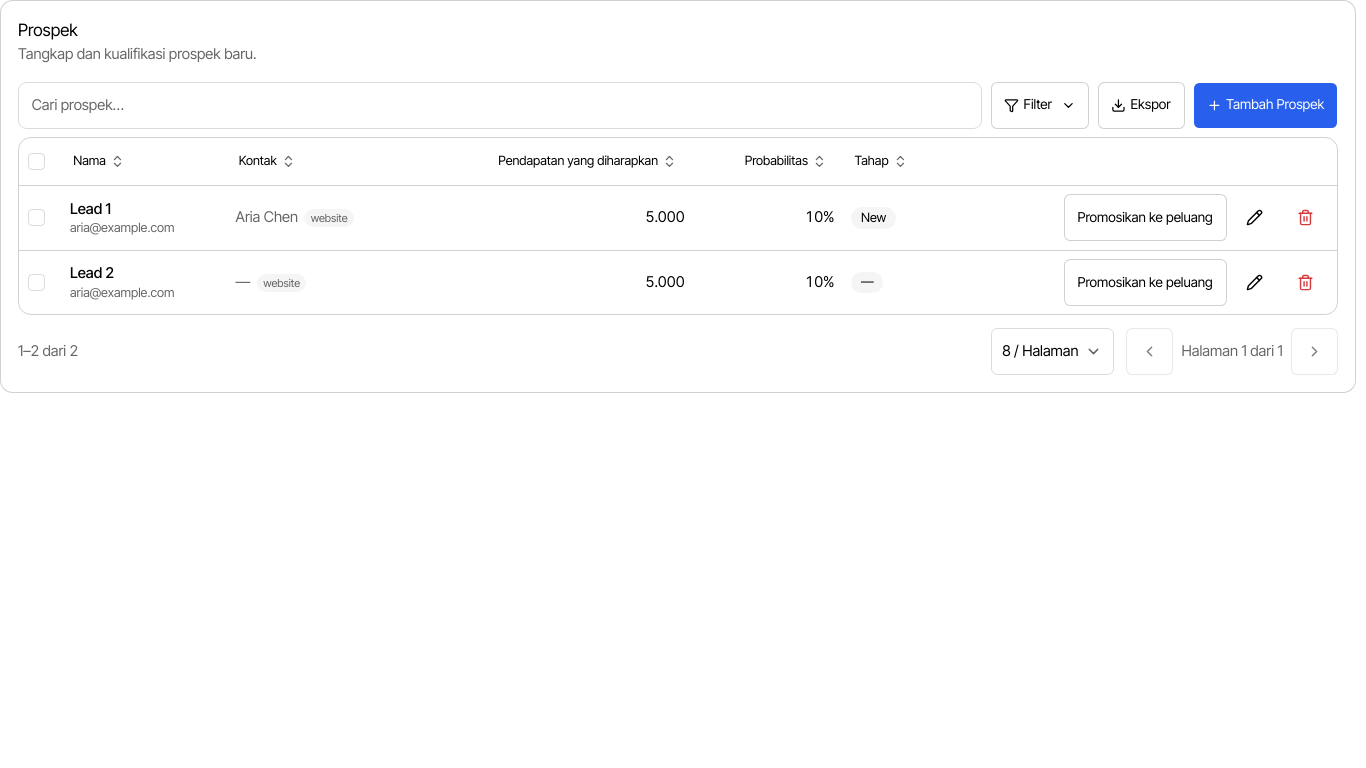
Test: LeadsSection extra2 › opens the edit dialog from the row actions
The width and height of the screenshot is (1366, 768).
Check: the text "Lead 1" is shown, box [70,200,111,218]
Click the button named "Ubah prospek" in the row of "Lead 1".
click(1254, 218)  # box [1231,194,1278,241]
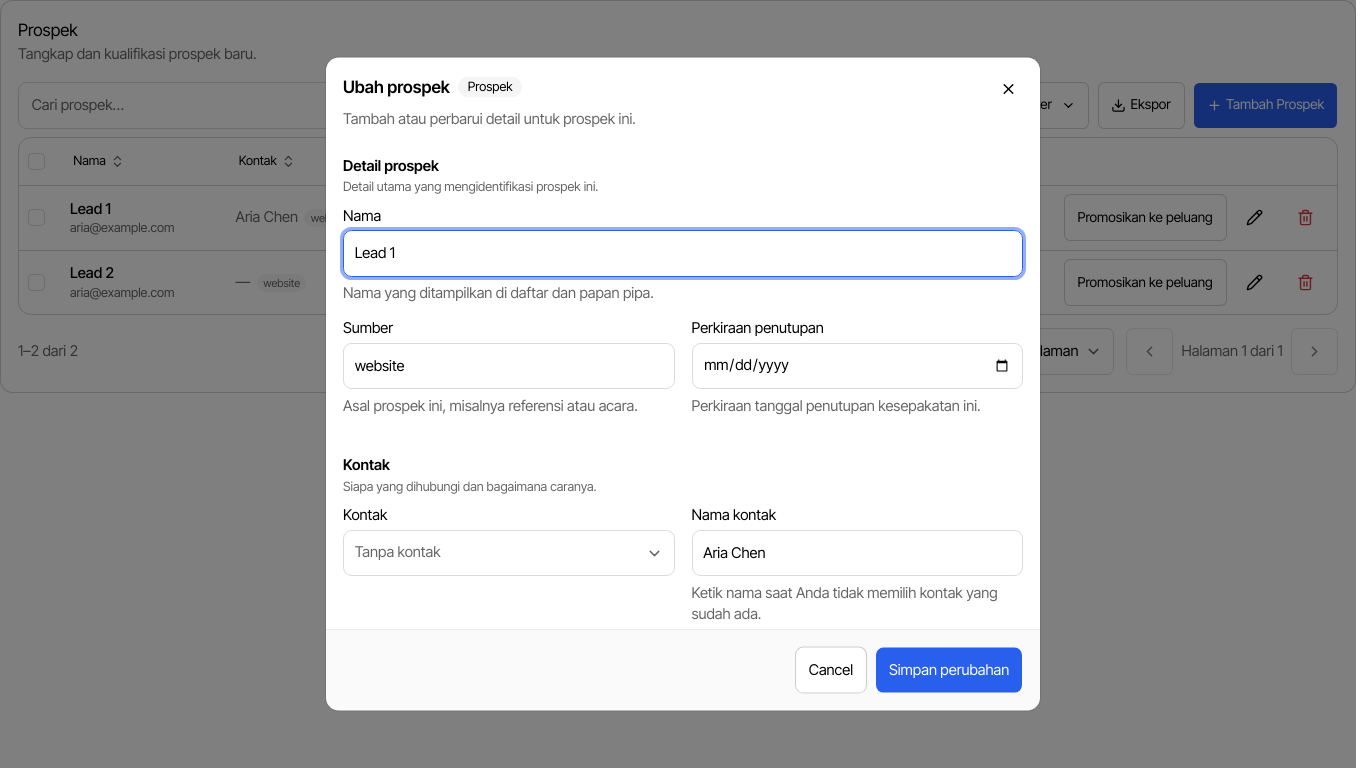
Check: the heading "Ubah prospek" is shown, box [343,75,450,100]
